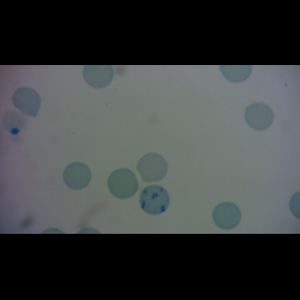aggregate reticulocyte: (138, 184, 171, 216)
erythrocyte: (106, 167, 140, 200), (10, 86, 42, 119), (136, 152, 168, 183), (62, 161, 93, 191), (211, 201, 242, 231), (243, 102, 274, 131)
punctate reticulocyte: (82, 65, 115, 89)
